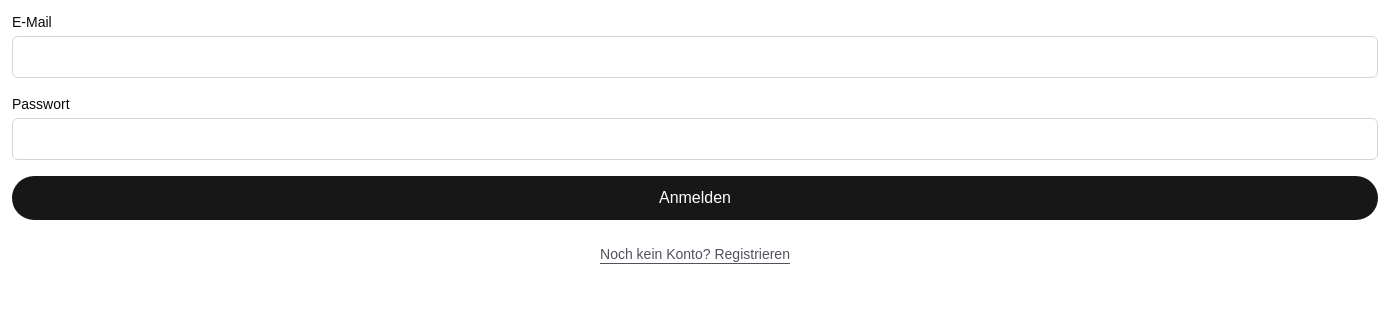
Test: F004 LoginForm › F004/AC-5 zeigt bei falschen Zugangsdaten eine neutrale Meldung, leert das Passwort und behält die E-Mail
Step 1. Type "max@example.com" into the field labelled "E-Mail" → (695, 57), box [12,36,1378,78]
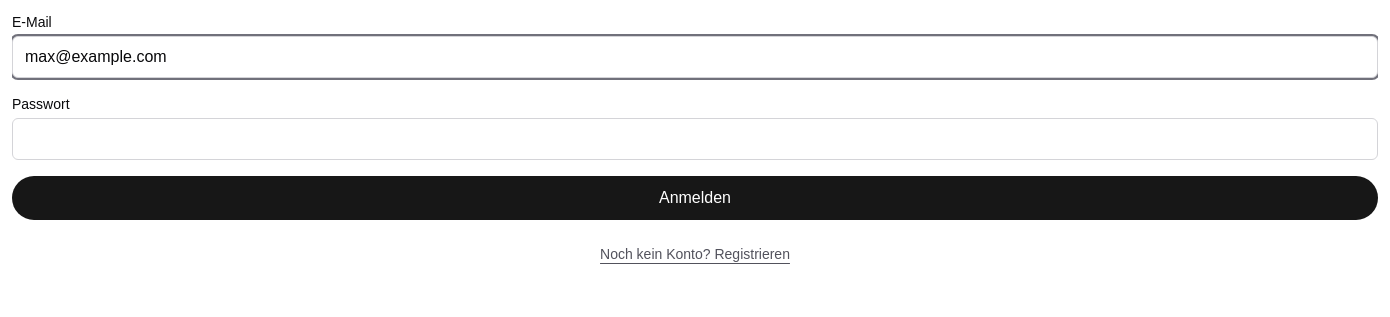
Step 2. Type "geheim123" into the password field labelled "Passwort" → (695, 139), box [12,118,1378,160]
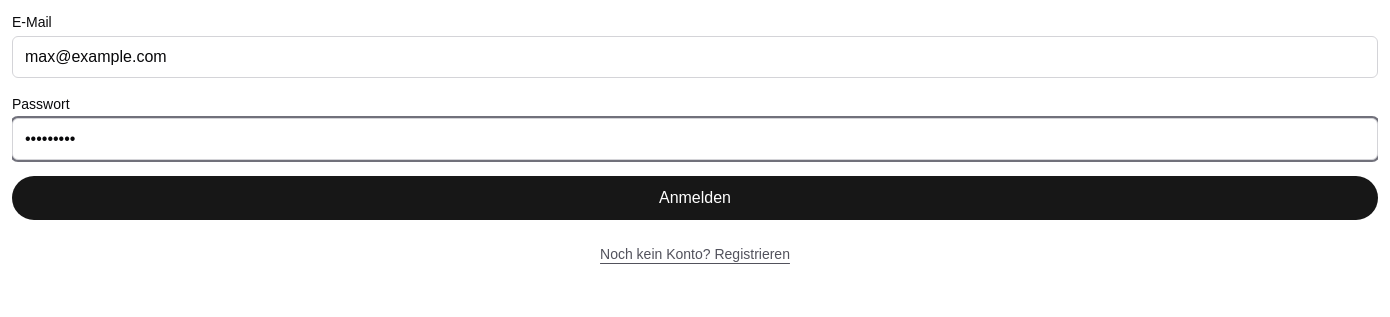
Step 3. Click the button "Anmelden" → (695, 198), box [12,176,1378,220]
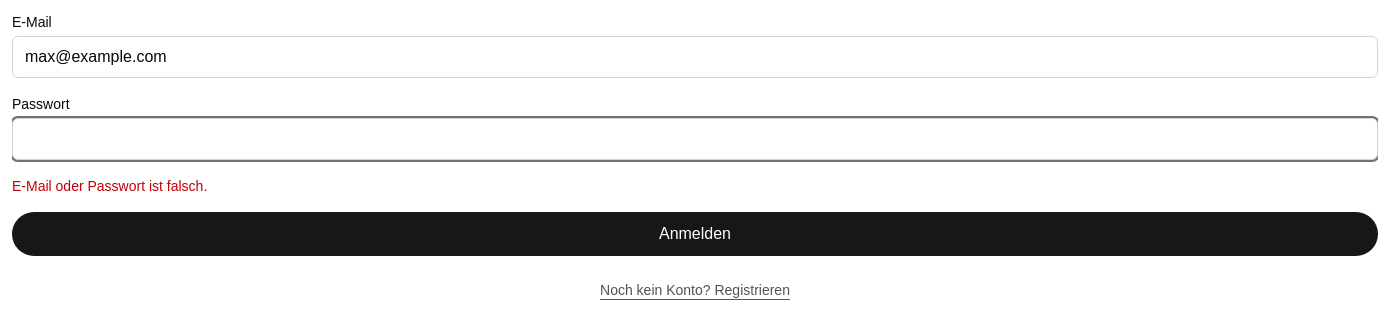
expect the button "Anmelden" is enabled: met, box [12,212,1378,256]
expect the message reads "E-Mail oder Passwort ist falsch.": met, box [12,178,207,194]
expect the password field labelled "Passwort" is empty: met, box [12,118,1378,160]
